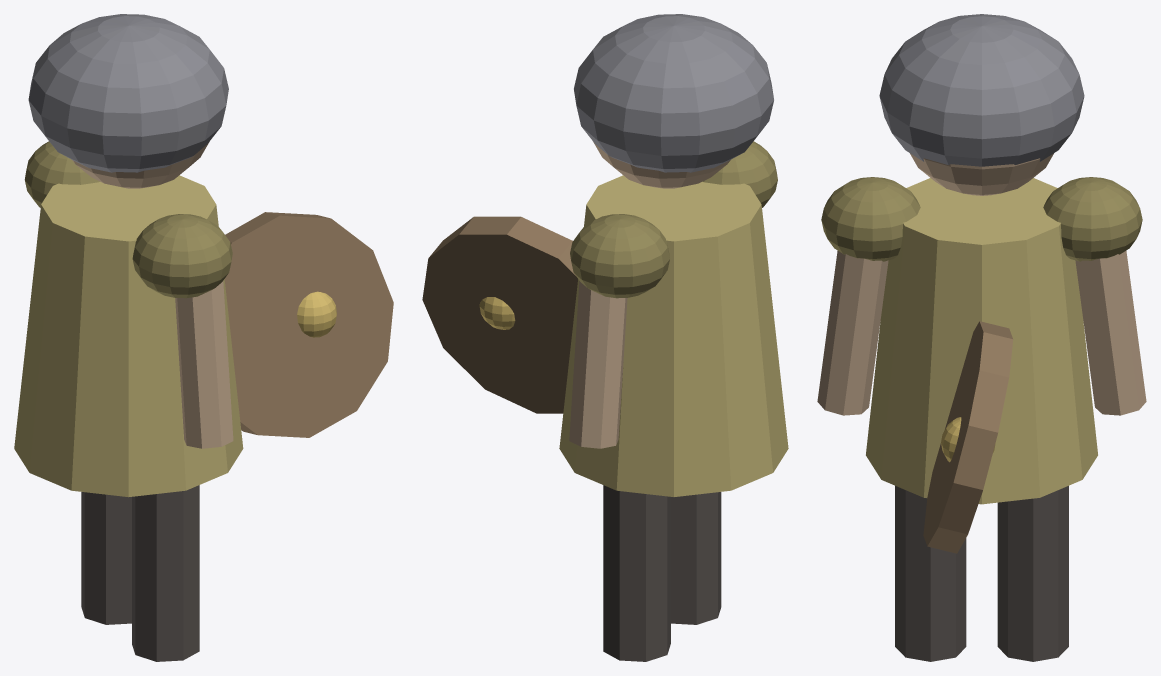
The model's file is hero_sarn_2.glb.
3 views of the same model, side by side, from view 1: azimuth 30°, elevation 25°; view 2: azimuth 150°, elevation 25°; view 3: azimuth 270°, elevation 25° (orthographic).
Parts seen in each view (by area): view 1: figurka; view 2: figurka; view 3: figurka.
Part boxes in pixels (x1,y1,x2,y2): figurka: (14, 14, 393, 661); figurka: (422, 14, 788, 661); figurka: (817, 14, 1146, 661).
Size of the model in its own units: 0.6 by 0.9925 by 0.4814.
